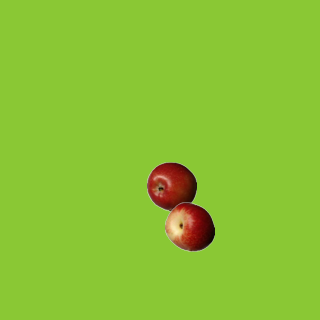Apple Braeburn: (146, 161, 196, 211)
Nectarine: (164, 201, 214, 251)
